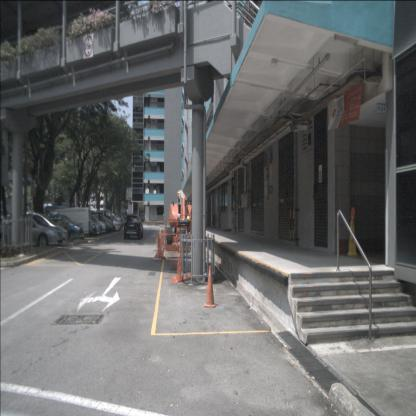movable_object-trafficcone: (204, 265, 216, 308), (348, 207, 358, 256)
vehicle-car: (0, 214, 63, 249), (7, 212, 68, 245), (48, 207, 92, 238), (39, 215, 84, 242), (76, 214, 106, 235), (75, 215, 103, 235), (93, 212, 120, 232), (124, 214, 144, 240), (100, 214, 124, 231)
vehicle-truck: (84, 210, 114, 233)
